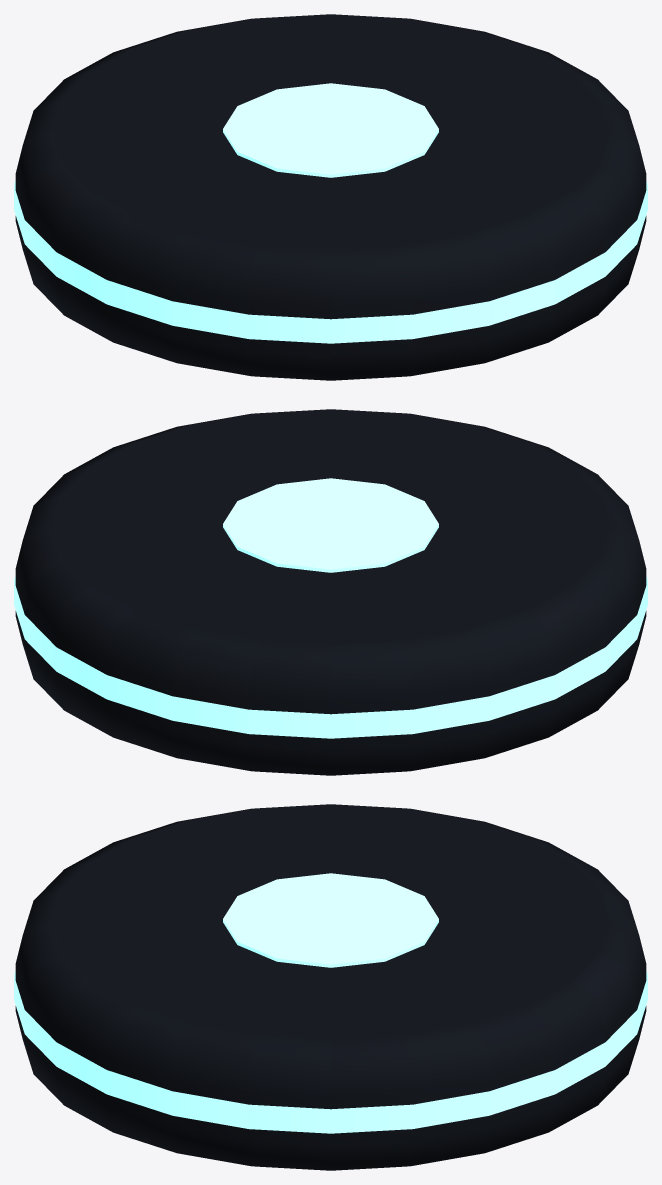
Rendered from slickstone_puck.glb.
3 renders of one model, top to bottom at view 1: azimuth 30°, elevation 25°; view 2: azimuth 150°, elevation 25°; view 3: azimuth 270°, elevation 25°, orthographic.
Visible parts, largest first — view 1: Mesh; view 2: Mesh; view 3: Mesh.
Boxes of the visible parts, x1,y1,x2,y2 form: Mesh: [14, 14, 647, 380]; Mesh: [14, 409, 647, 775]; Mesh: [14, 804, 647, 1170].
Bounding box in the file's own units: 0.704 × 0.164 × 0.704.
